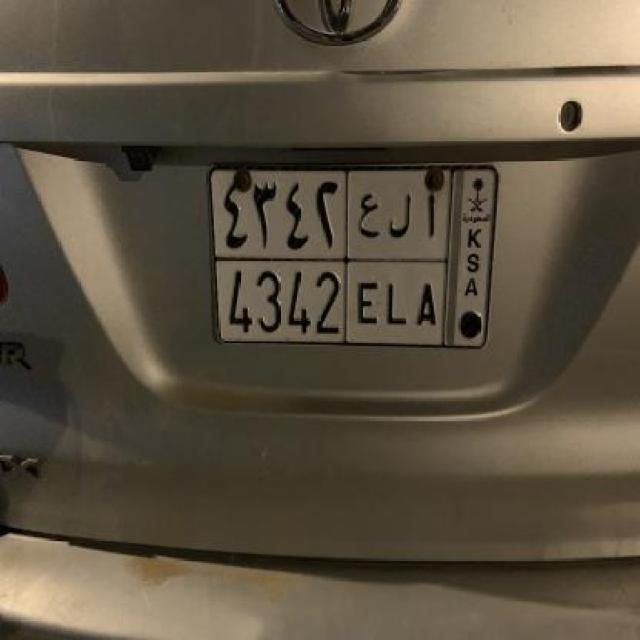license_plate: (203, 159, 502, 352)
